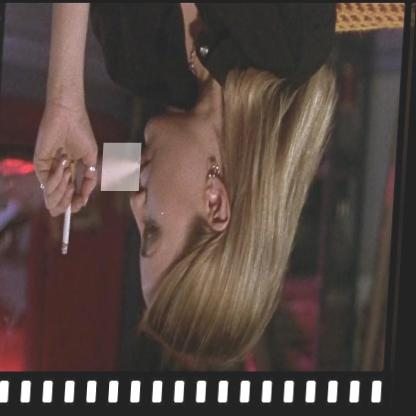smoke: (103, 140, 143, 190)
